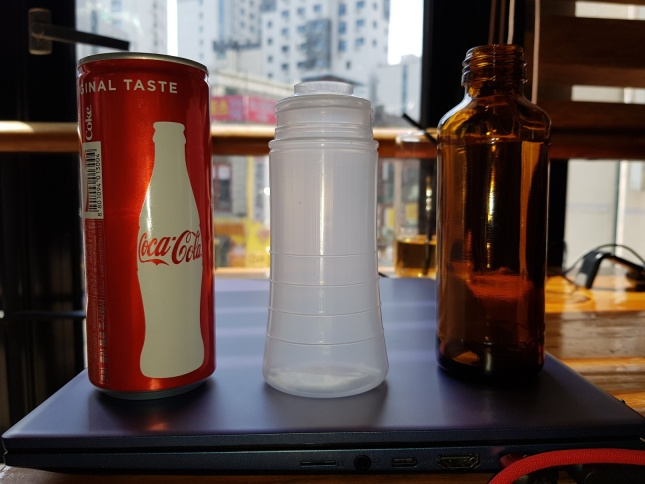Can: (70, 47, 220, 403)
Glass: (431, 41, 554, 391)
Plastic: (258, 75, 394, 399)
